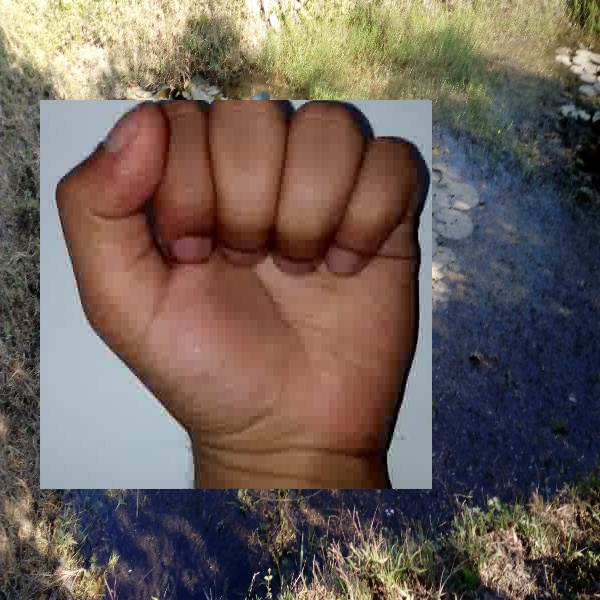A: (40, 100, 432, 489)
